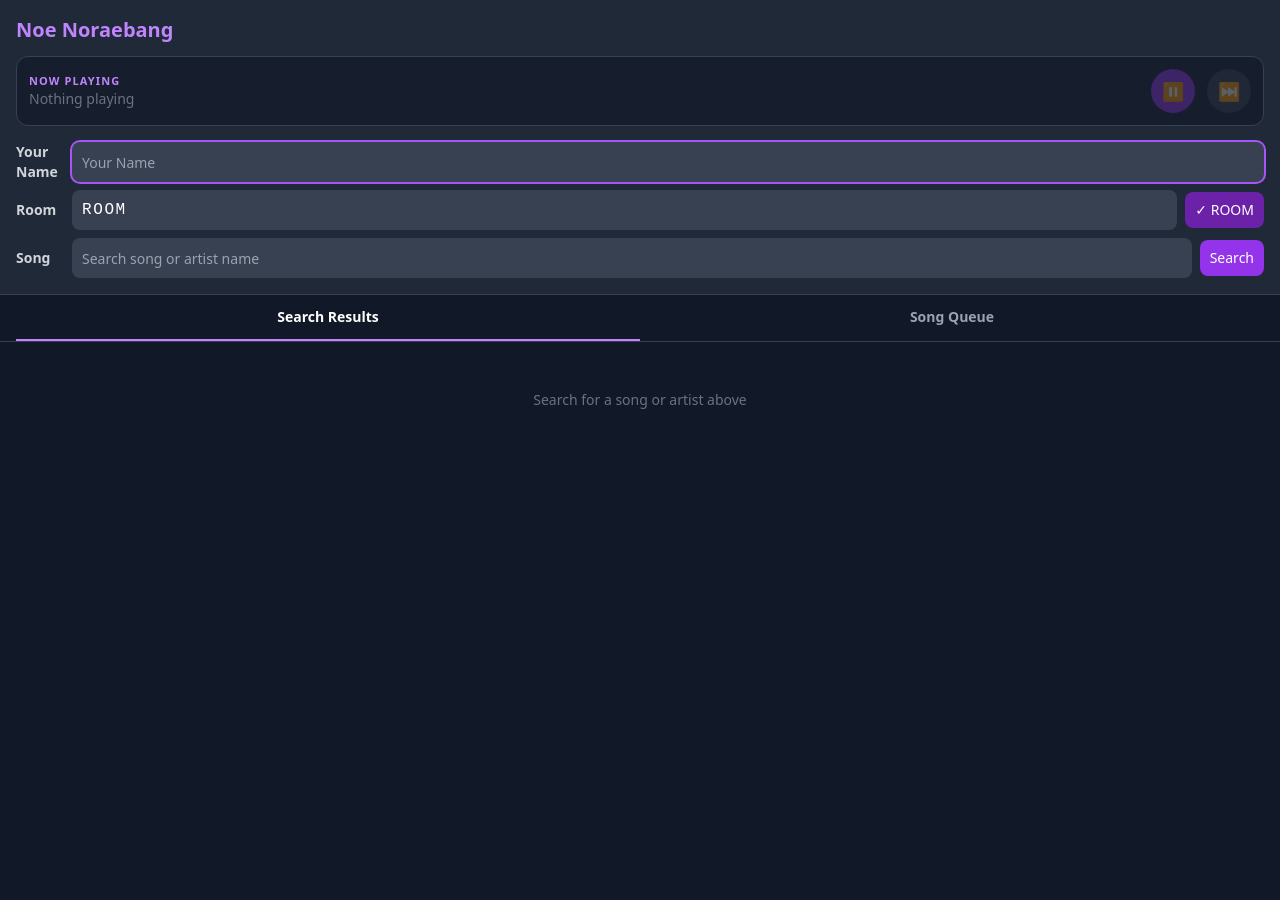
Test case: MobileView › remote for the TV › confirming removes the song straight away and tells the TV
Click the tab "Song Queue": x=952, y=318 x1=640 y1=295 x2=1264 y2=341
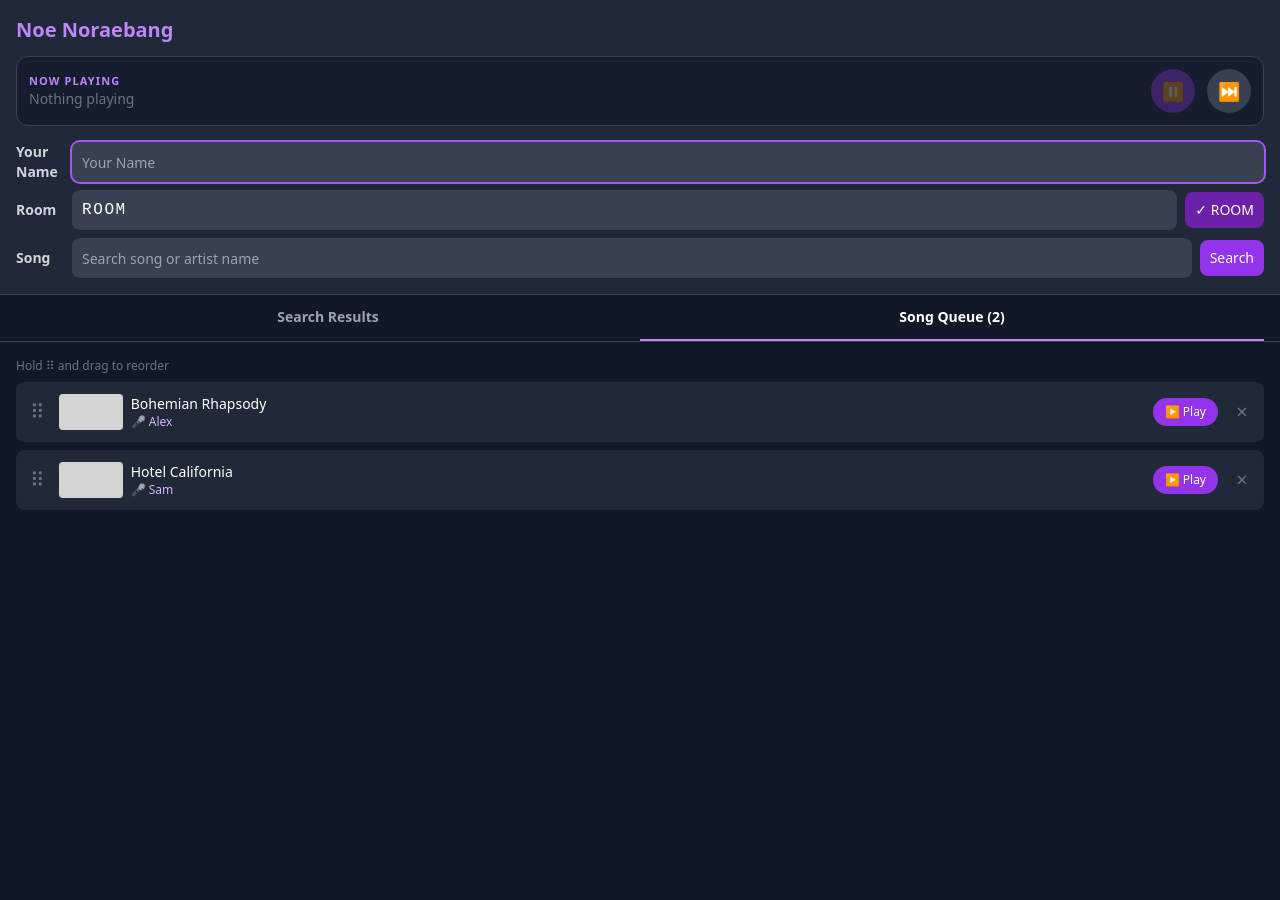
Click the button named "Remove Hotel California from the queue": x=1242, y=480 x1=1226 y1=464 x2=1258 y2=496
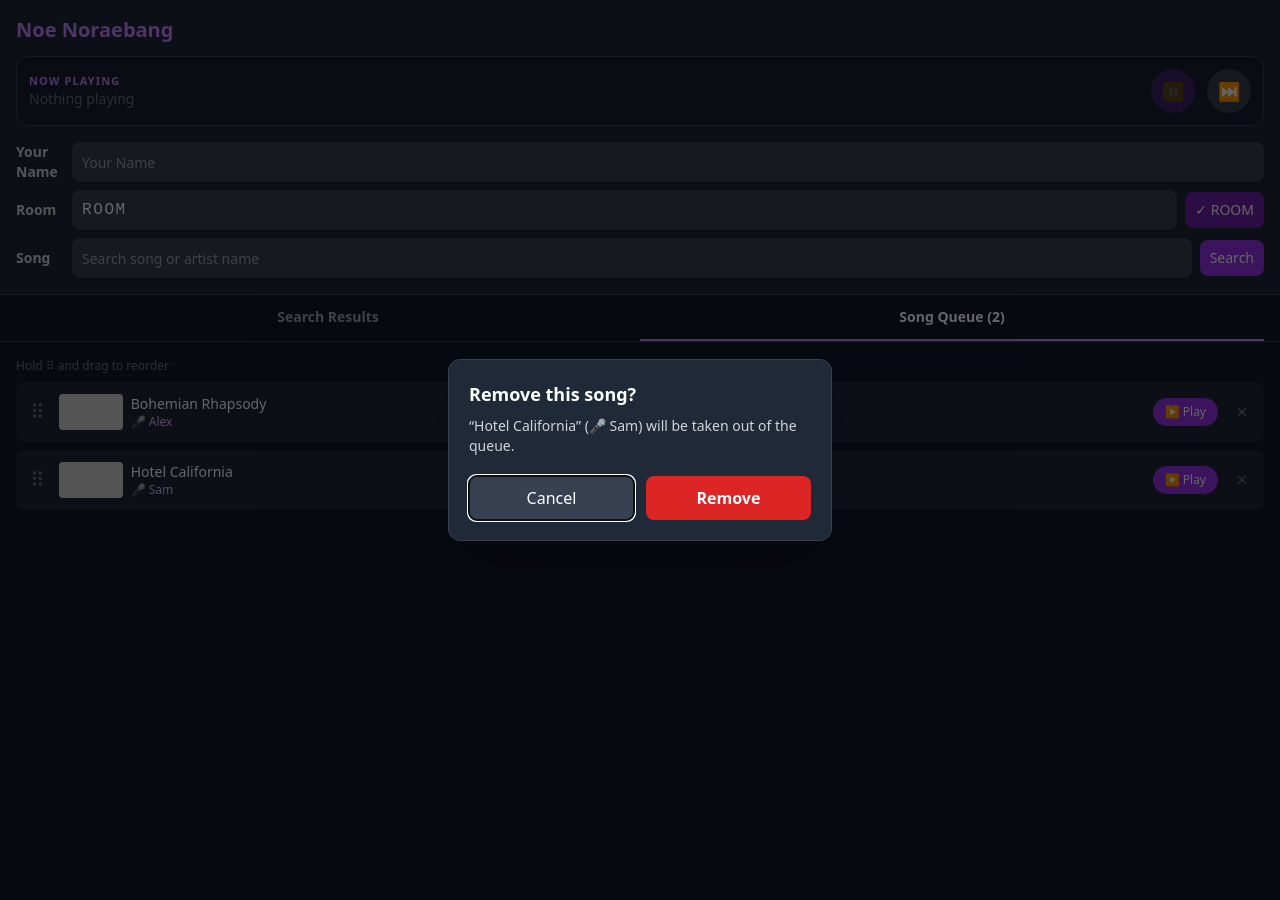
Click the button "Remove": x=728, y=498 x1=646 y1=476 x2=811 y2=520
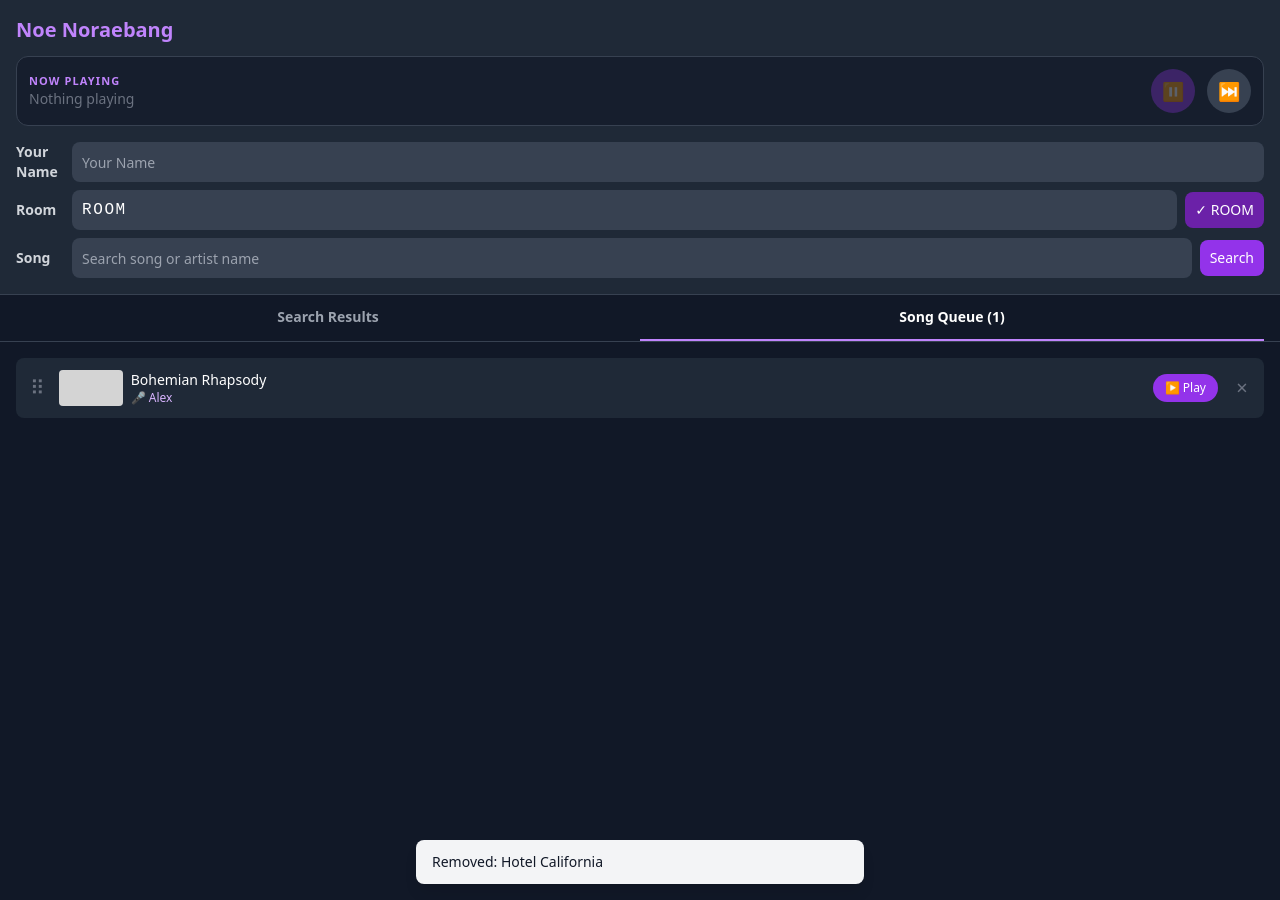
Check: the list with test id "queue-list" does not show "Hotel California", box x1=16 y1=358 x2=1264 y2=418
Check: the message with test id "toast" reads "Removed: Hotel California", box x1=432 y1=852 x2=603 y2=871
